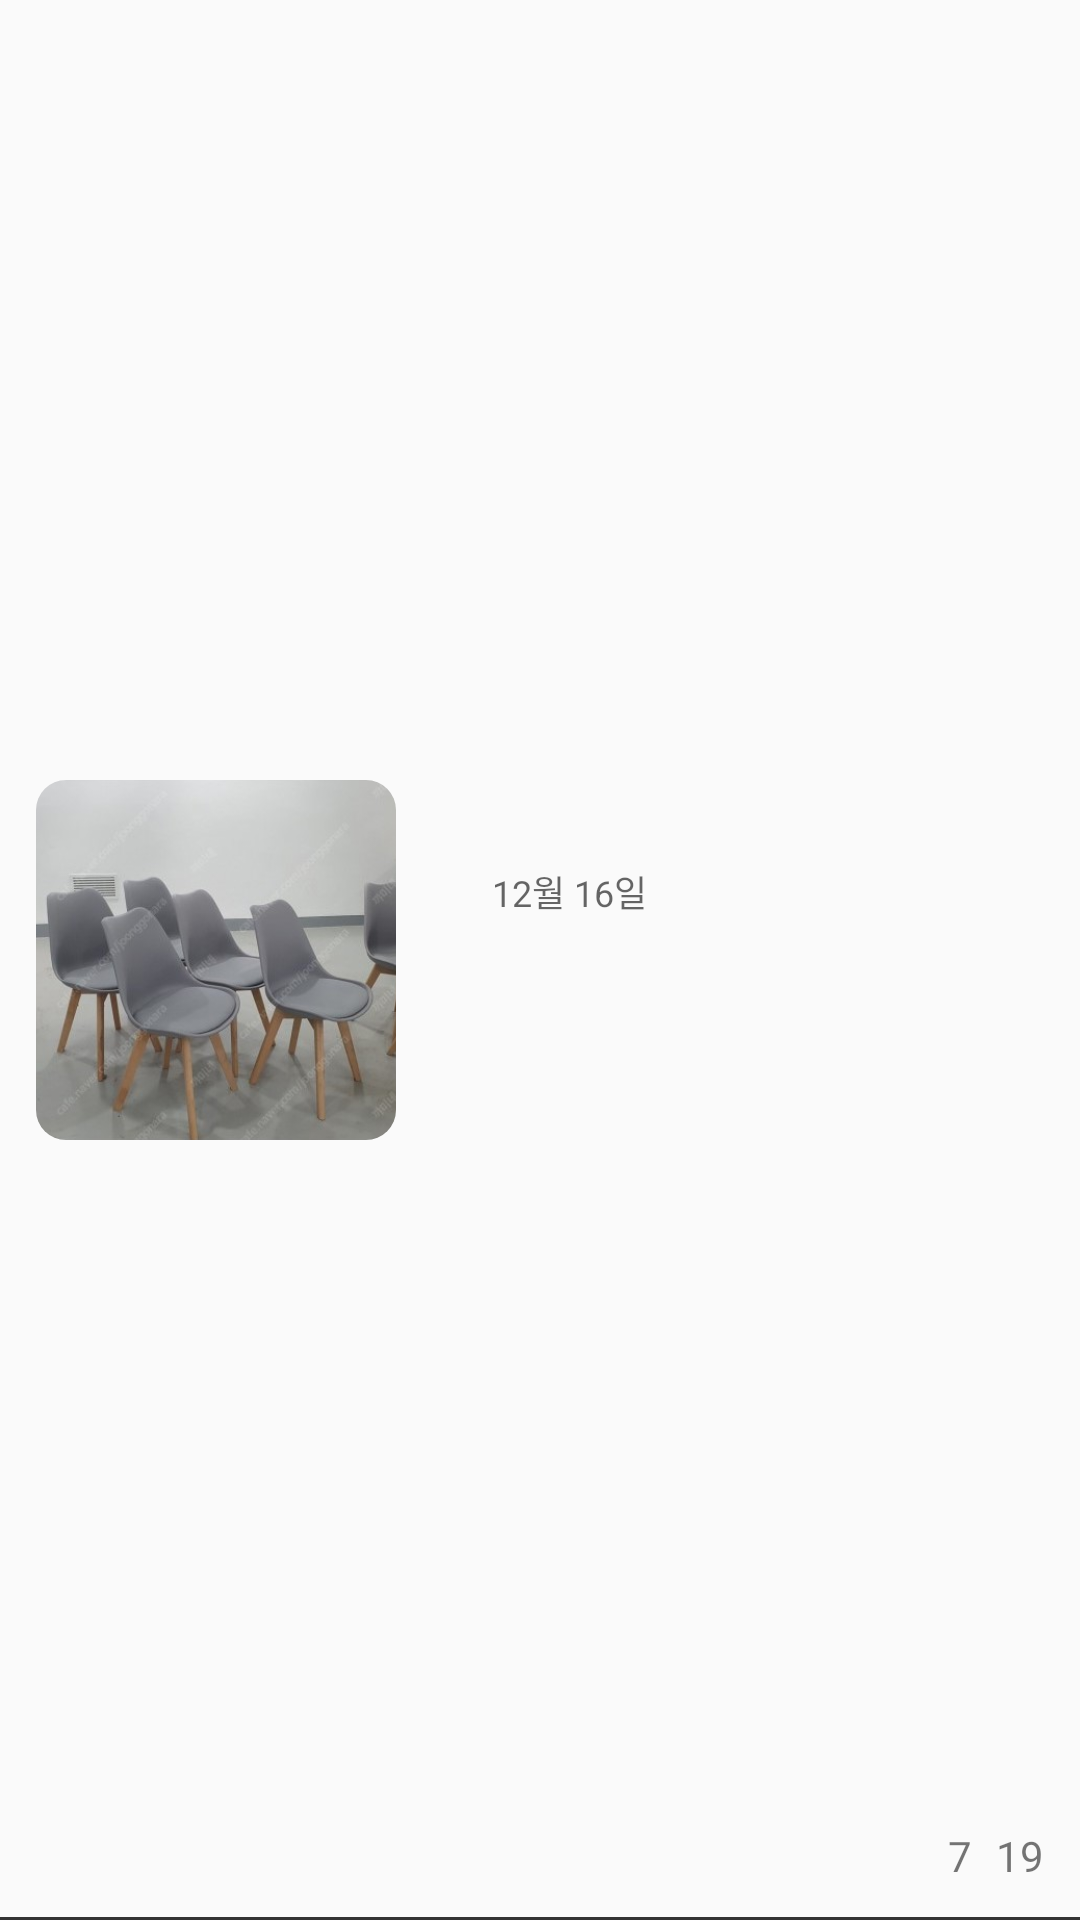

Locate icon controls on the screen. Image size 1080 × 1920, boxes as region(x1, y1, x2, y2).
product: region(36, 780, 396, 1140)
